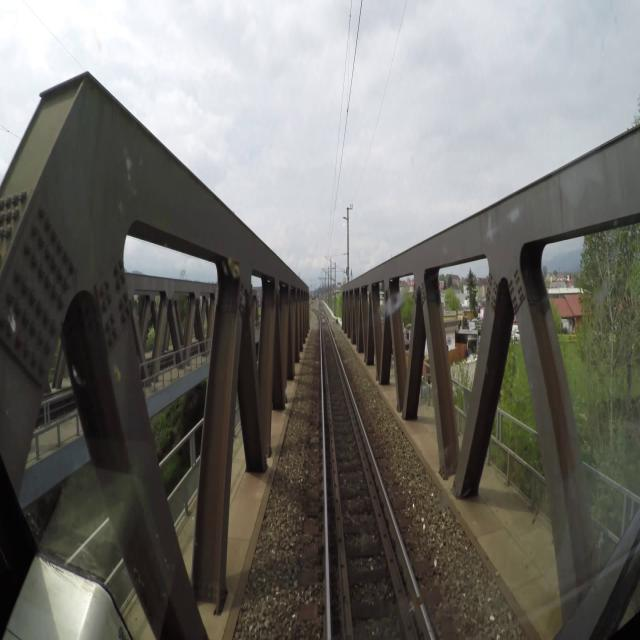rail-track: (323, 324, 408, 639), (341, 366, 430, 639), (323, 356, 344, 639)
